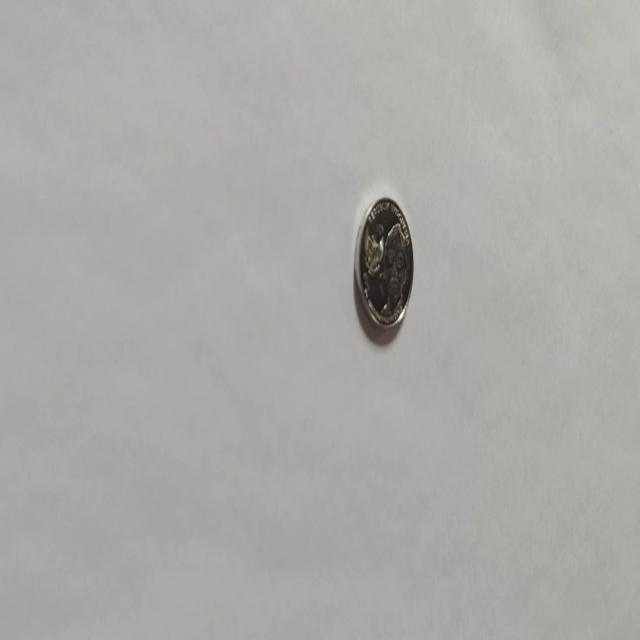dua ratus rupiah: (354, 195, 414, 333)
